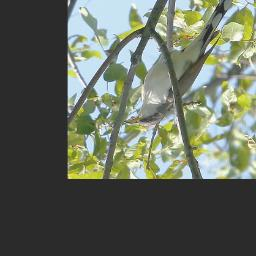Cuckoo: (123, 0, 241, 128)
